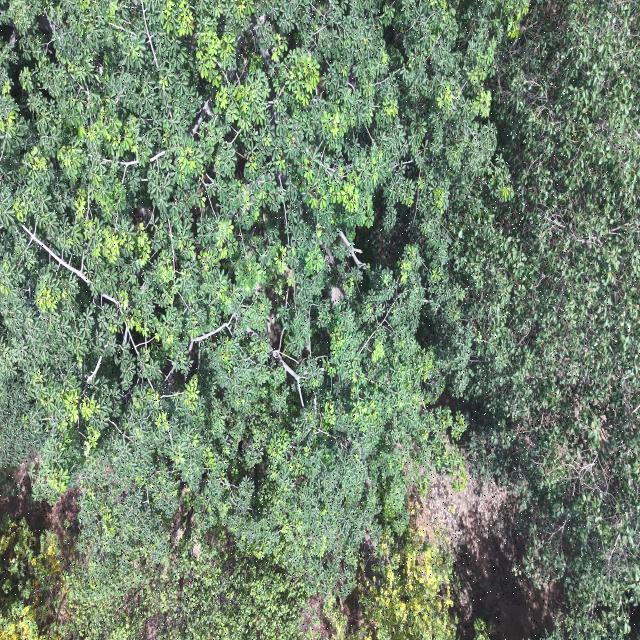DRY_AREA: (417, 475, 557, 639)
VEGETATION_TREE: (0, 0, 639, 639), (438, 2, 639, 637)
